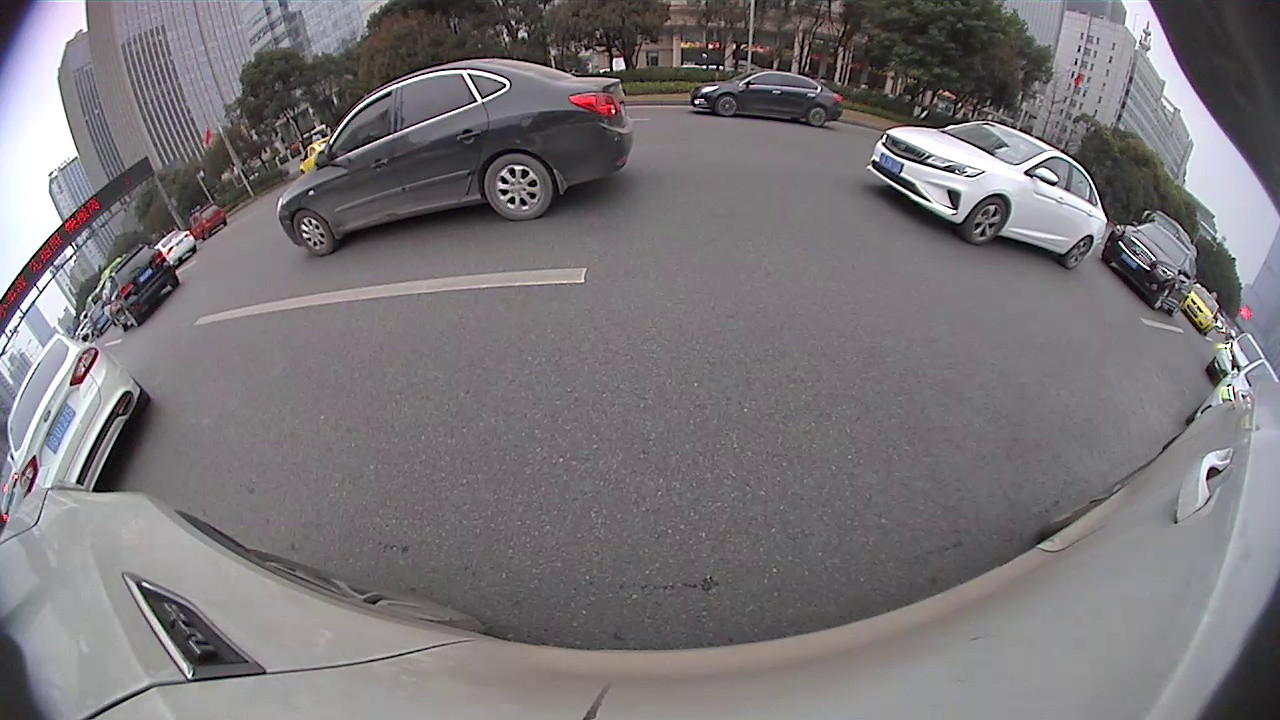car: (274, 56, 634, 261), (861, 116, 1110, 272), (9, 330, 154, 498), (691, 66, 847, 131), (1105, 219, 1204, 317), (106, 236, 181, 331)
front: (964, 195, 1008, 247), (291, 208, 333, 257), (1152, 281, 1173, 312), (716, 93, 738, 118)
rear: (483, 154, 553, 218), (1063, 235, 1093, 271), (806, 107, 826, 128)
